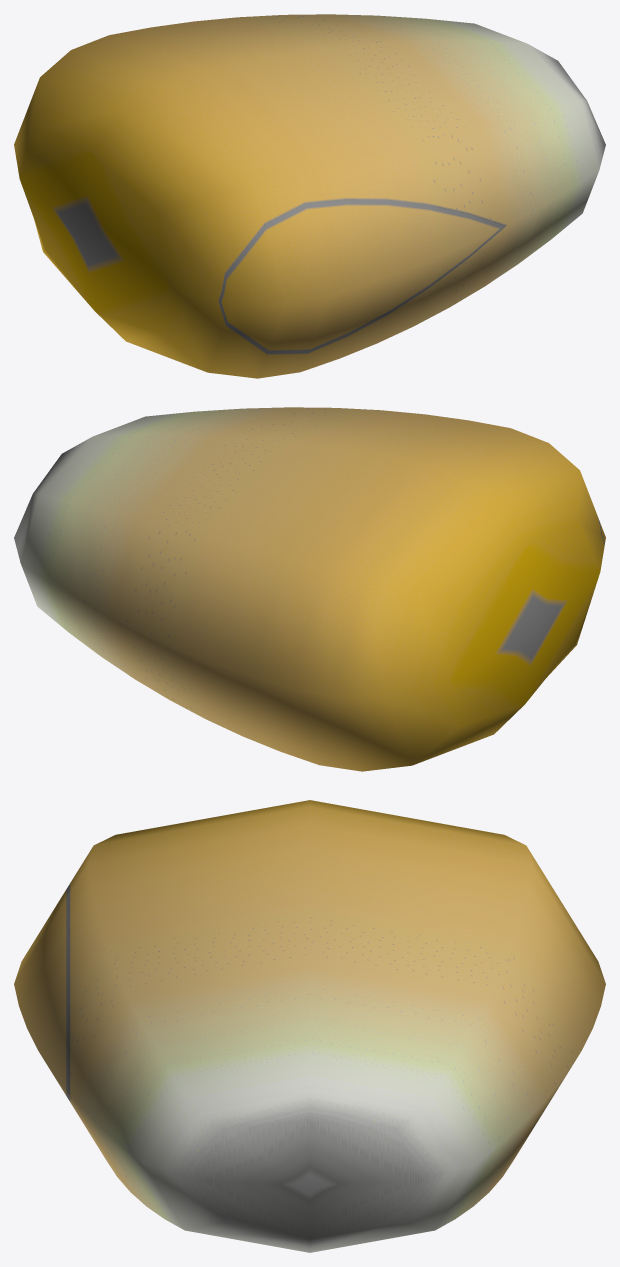
Rendered from popcorn model 1.FBX.
3 views of the same model, one above another, from view 1: azimuth 30°, elevation 25°; view 2: azimuth 150°, elevation 25°; view 3: azimuth 270°, elevation 25° (orthographic). The views are drawn at different scales.
Parts seen in each view (by area): view 1: Box005; view 2: Box005; view 3: Box005.
Part boxes in pixels (box(x1,y1,x2,y2)): Box005: box(14, 14, 605, 378); Box005: box(14, 407, 605, 771); Box005: box(14, 800, 605, 1252).
Size of the model in its own units: 2.63 by 2.35 by 1.38.
Materials: 1 (1 with a texture image).
